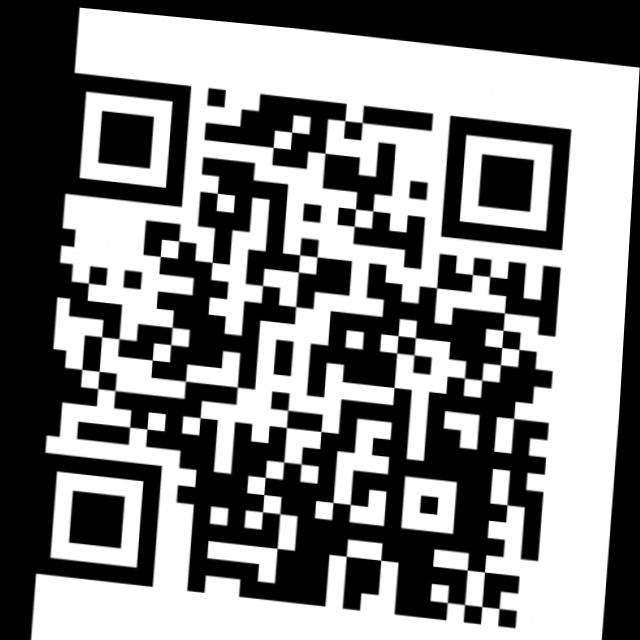QR_CODE: (16, 48, 600, 640)
